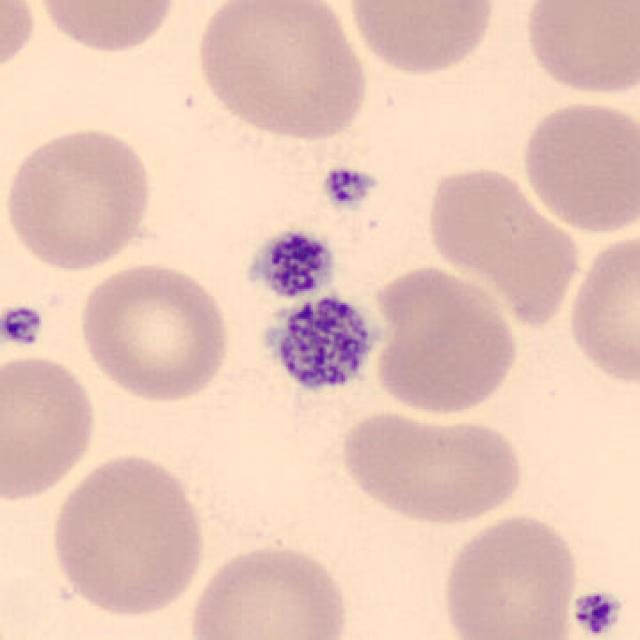Platelets: (260, 291, 380, 400), (244, 226, 338, 302), (318, 162, 379, 212), (569, 587, 627, 638), (0, 301, 48, 351)
RBC: (44, 448, 210, 620), (421, 159, 585, 328), (188, 2, 374, 143), (366, 261, 521, 420), (334, 404, 530, 529), (2, 122, 158, 275), (74, 257, 234, 404), (437, 509, 581, 640), (185, 537, 354, 640), (518, 95, 638, 236), (0, 349, 101, 506), (345, 0, 501, 78), (517, 0, 638, 100), (564, 229, 638, 388), (30, 0, 181, 56), (0, 0, 39, 81)
